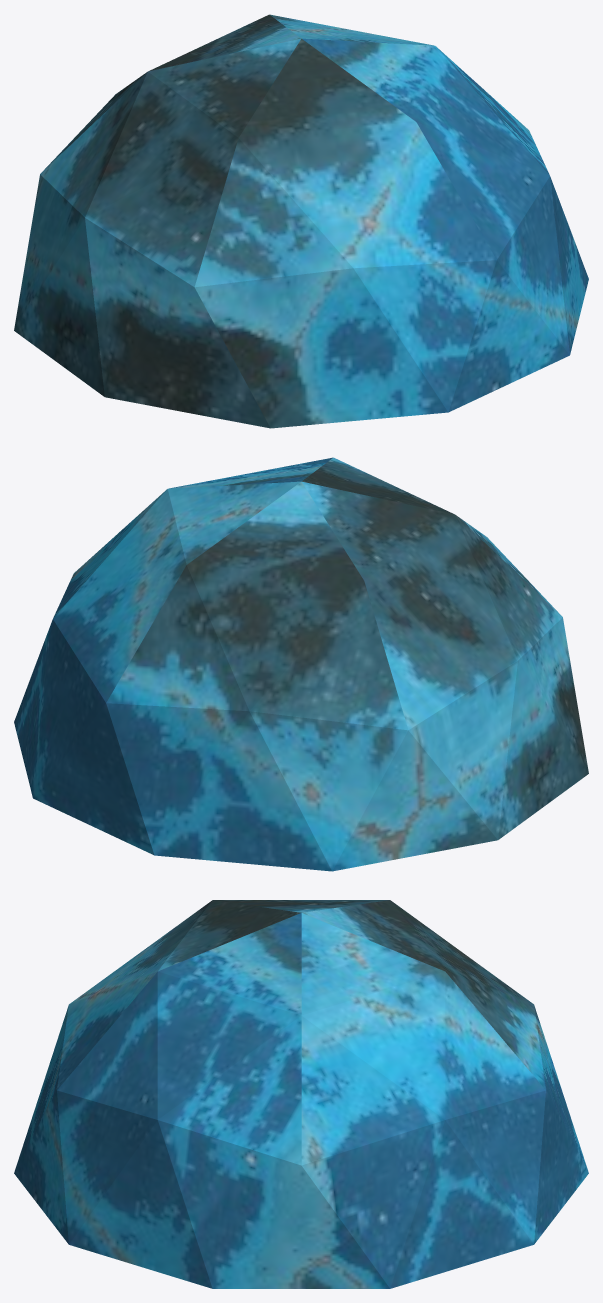
File: Shield.fbx
3 views of the same model, one above another, from view 1: azimuth 30°, elevation 25°; view 2: azimuth 150°, elevation 25°; view 3: azimuth 270°, elevation 25° (orthographic). The views are drawn at different scales.
Parts seen in each view (by area): view 1: Body; view 2: Body; view 3: Body.
Part boxes in pixels (x1,y1,x2,y2): Body: (14, 14, 588, 428); Body: (14, 457, 588, 871); Body: (14, 900, 588, 1288).
Size of the model in its own units: 190 by 100 by 200.
